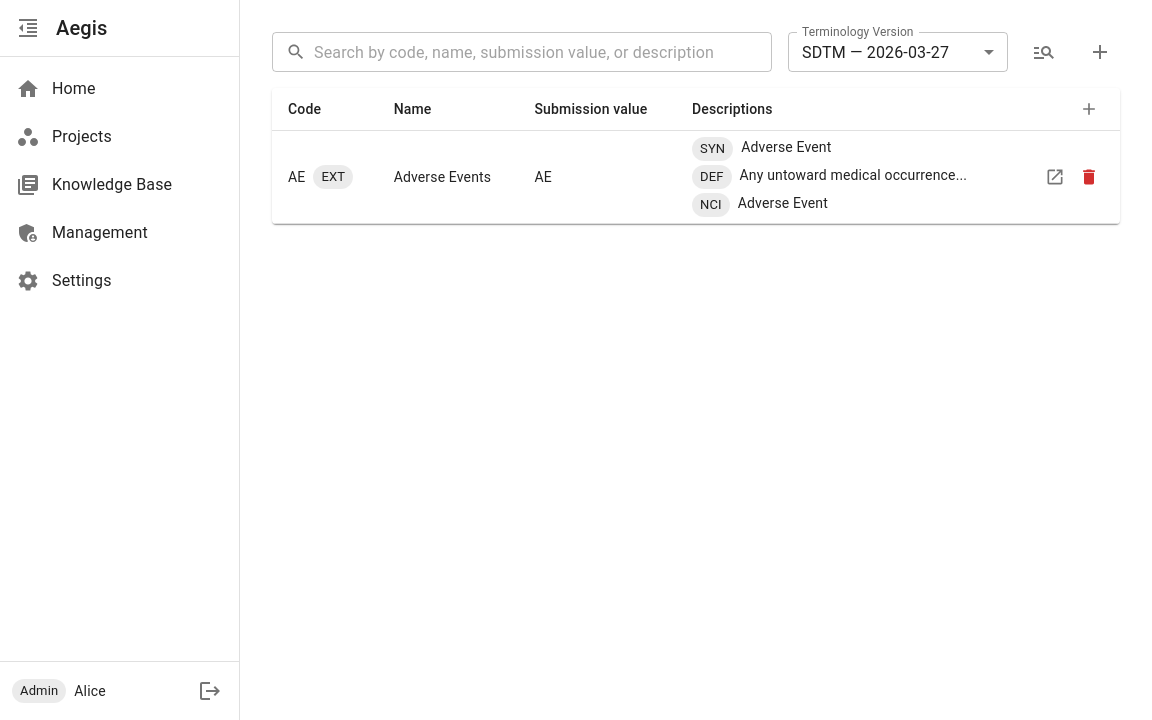
Test: TerminologyPage — VersionDropdown persistence across navigation › preserves the selected version after drilling into a code list and clicking back
This screenshot has width=1152, height=720.
Expected: the dropdown shows "2026-03-27", 802,42 -> 949,62
Click into the code list via its row's "open" launch button.
Click the button named "open AE". click: (1055, 177)
box: 1040,162 -> 1070,192
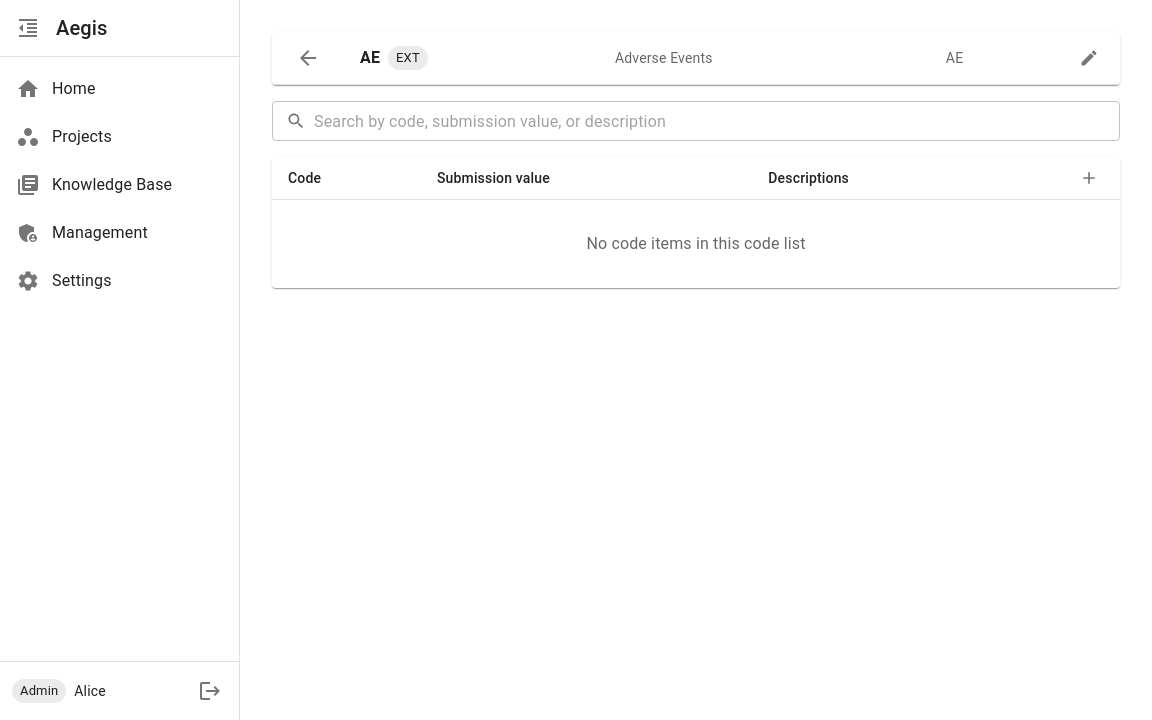
Click the button named "back". click: (308, 58)
box: 288,38 -> 328,78
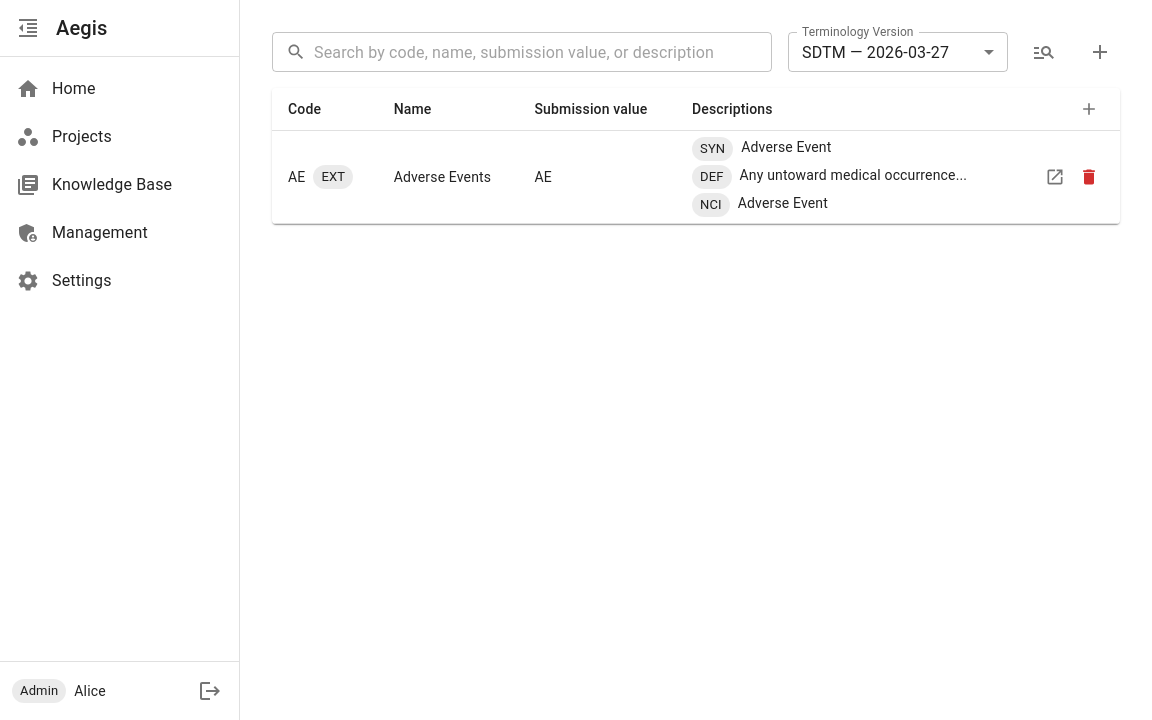
Result: the dropdown shows "2026-03-27" at 802,42 -> 949,62
